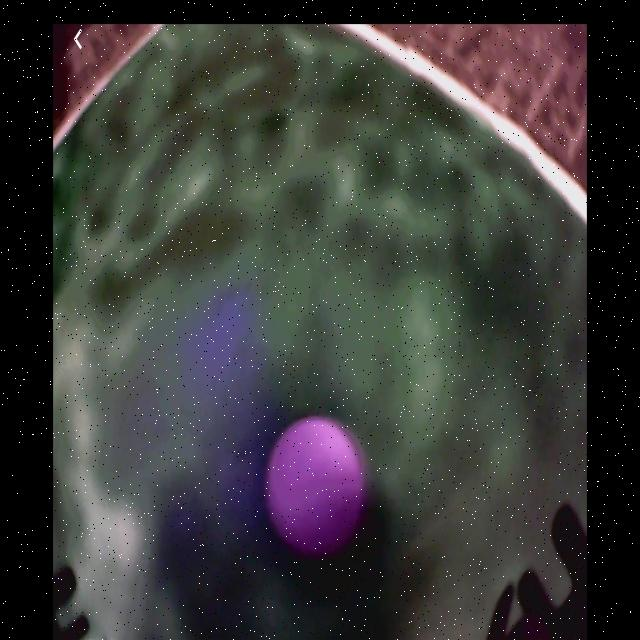ball: (266, 415, 364, 552)
